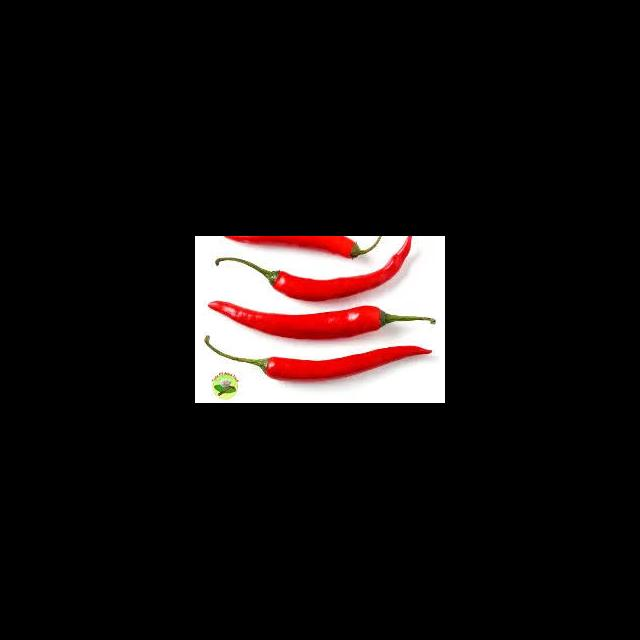chili_pepper: (227, 256, 444, 304), (208, 302, 427, 340), (264, 346, 432, 380), (223, 236, 382, 258)
